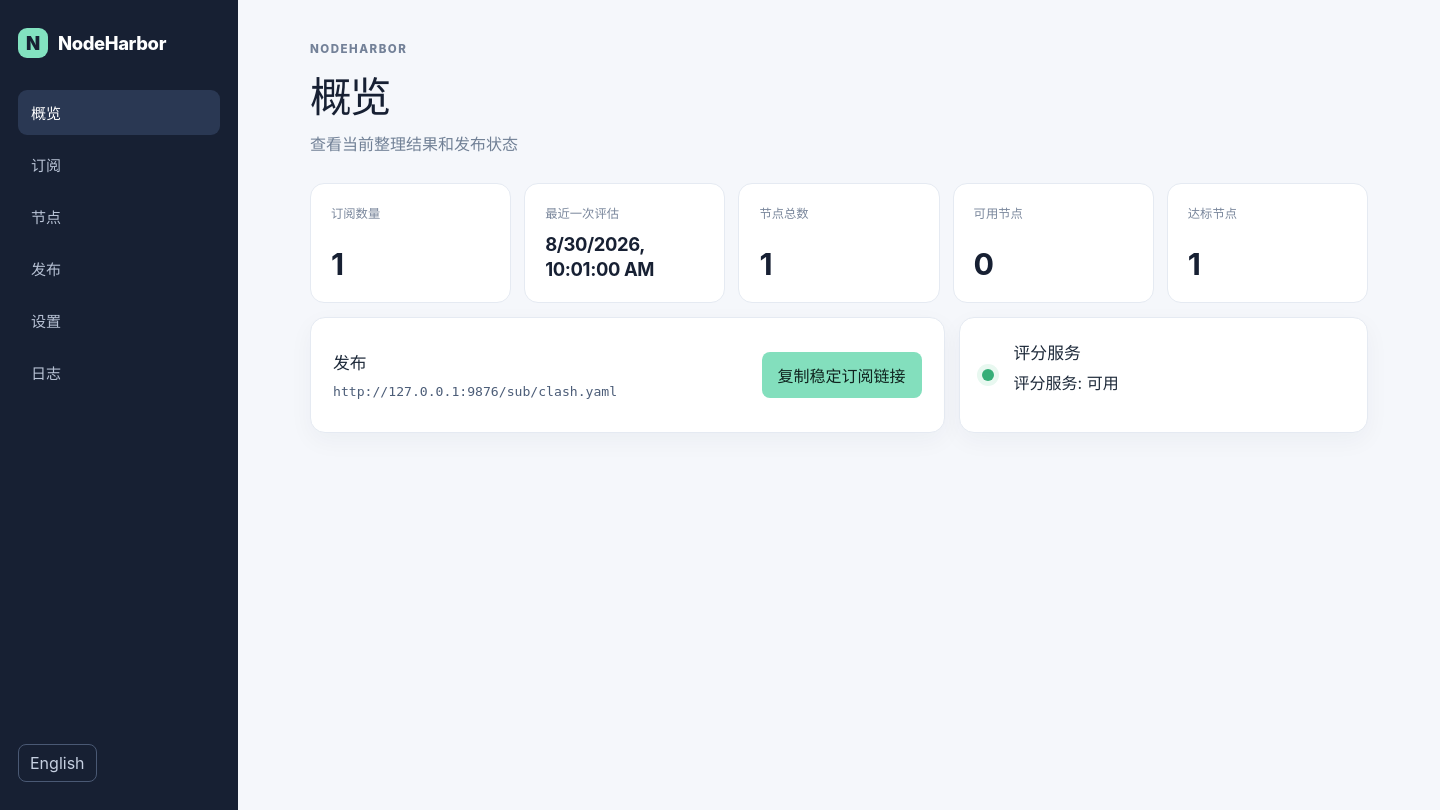
Test case: Subscriptions owns source management and shows unknown metadata without node results
This screenshot has width=1440, height=810.
Step 1. Click the link "订阅" → (46, 166), box [31,156,61,175]
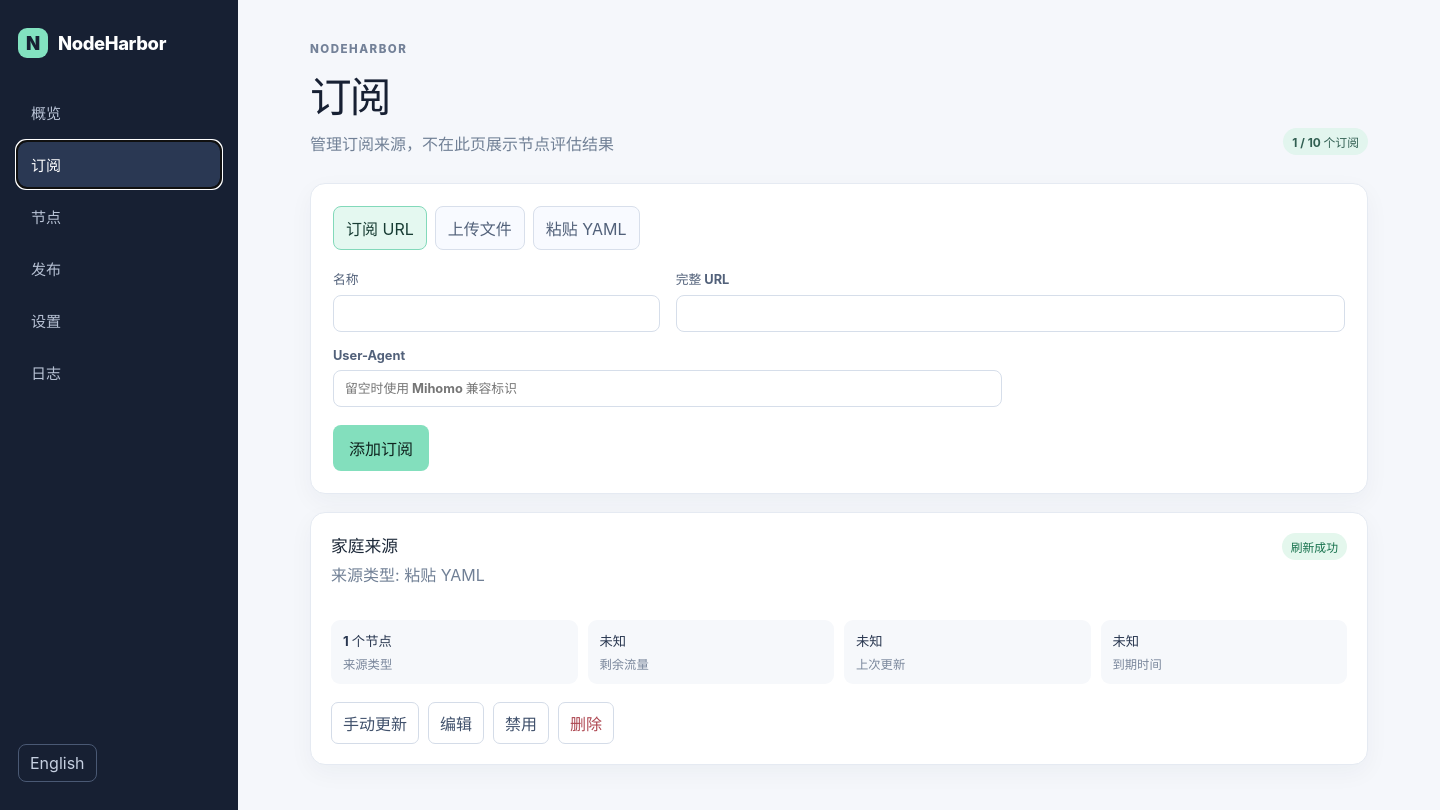
Now the heading "订阅" is shown, box [310,72,390,122]
Now the heading "家庭来源" is shown, box [331,536,398,556]
